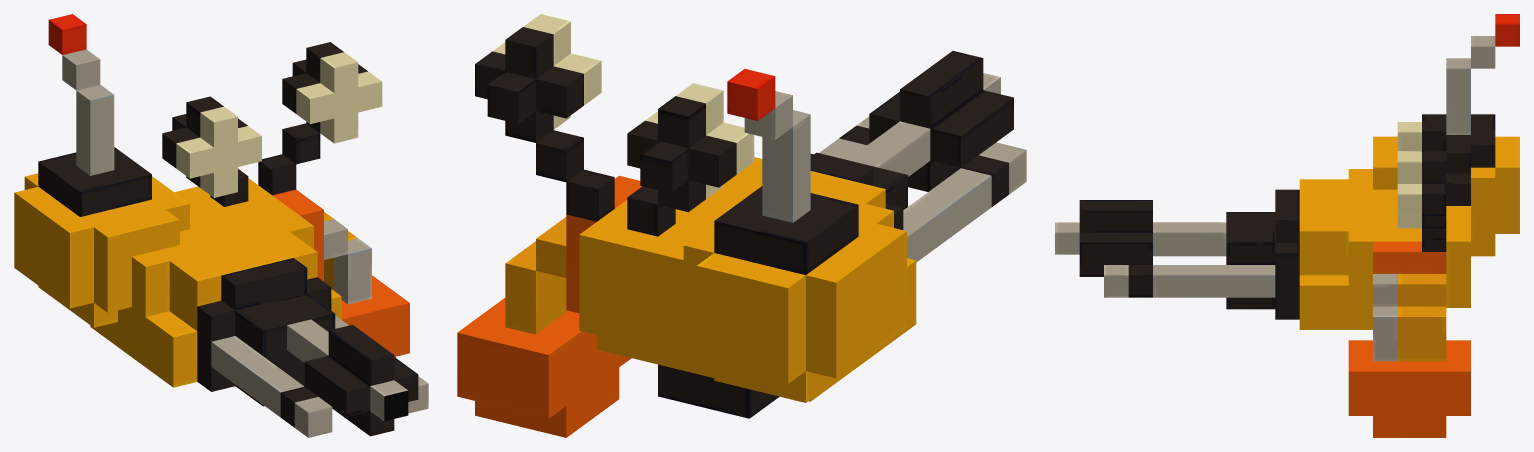
The model's file is Turret_HeavyBullet_01.FBX.
3 views of the same model, side by side, from view 1: azimuth 30°, elevation 25°; view 2: azimuth 150°, elevation 25°; view 3: azimuth 270°, elevation 25° (orthographic). The views are drawn at different scales.
Parts seen in each view (by area): view 1: Turret_HeavyBullet_01; view 2: Turret_HeavyBullet_01; view 3: Turret_HeavyBullet_01.
Boxes of the visible parts, x1,y1,x2,y2 form: Turret_HeavyBullet_01: (14, 14, 428, 437); Turret_HeavyBullet_01: (457, 14, 1026, 437); Turret_HeavyBullet_01: (1055, 14, 1519, 437).
Bounding box in the file's own units: 130 × 140 × 190.
